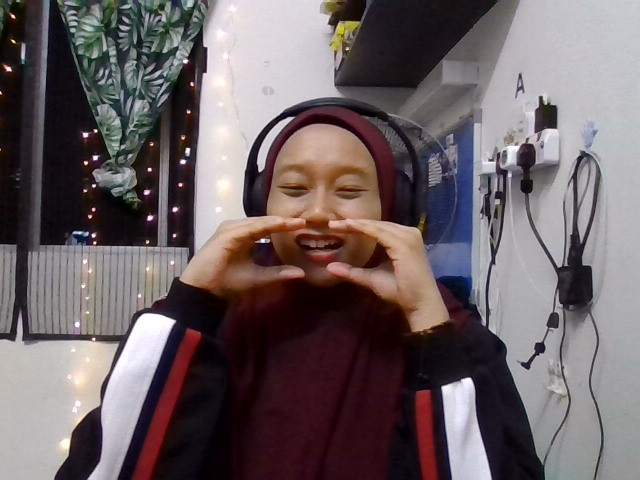Burger: (184, 212, 442, 300)
